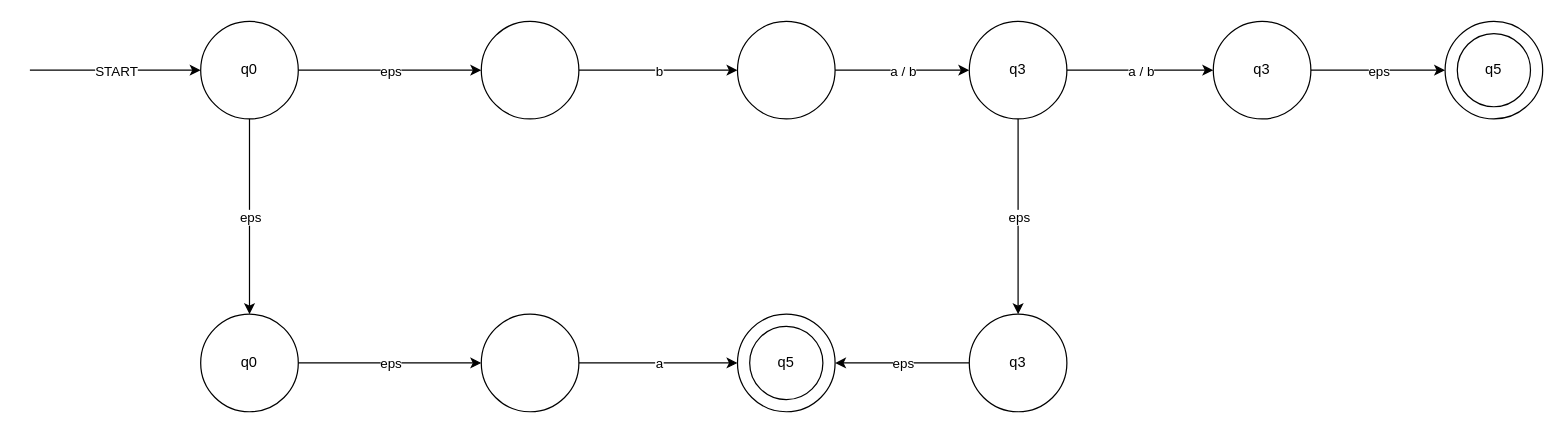
Some shapes in this 1564 by 433 pixel diagram are drawn without their labels. The shapes that lost their labels are listed below. From the top down, each one's centre as x and y in pixels, then its label:
At point (529, 69): "q1".
At point (785, 69): "q2".
At point (529, 362): "q4".
